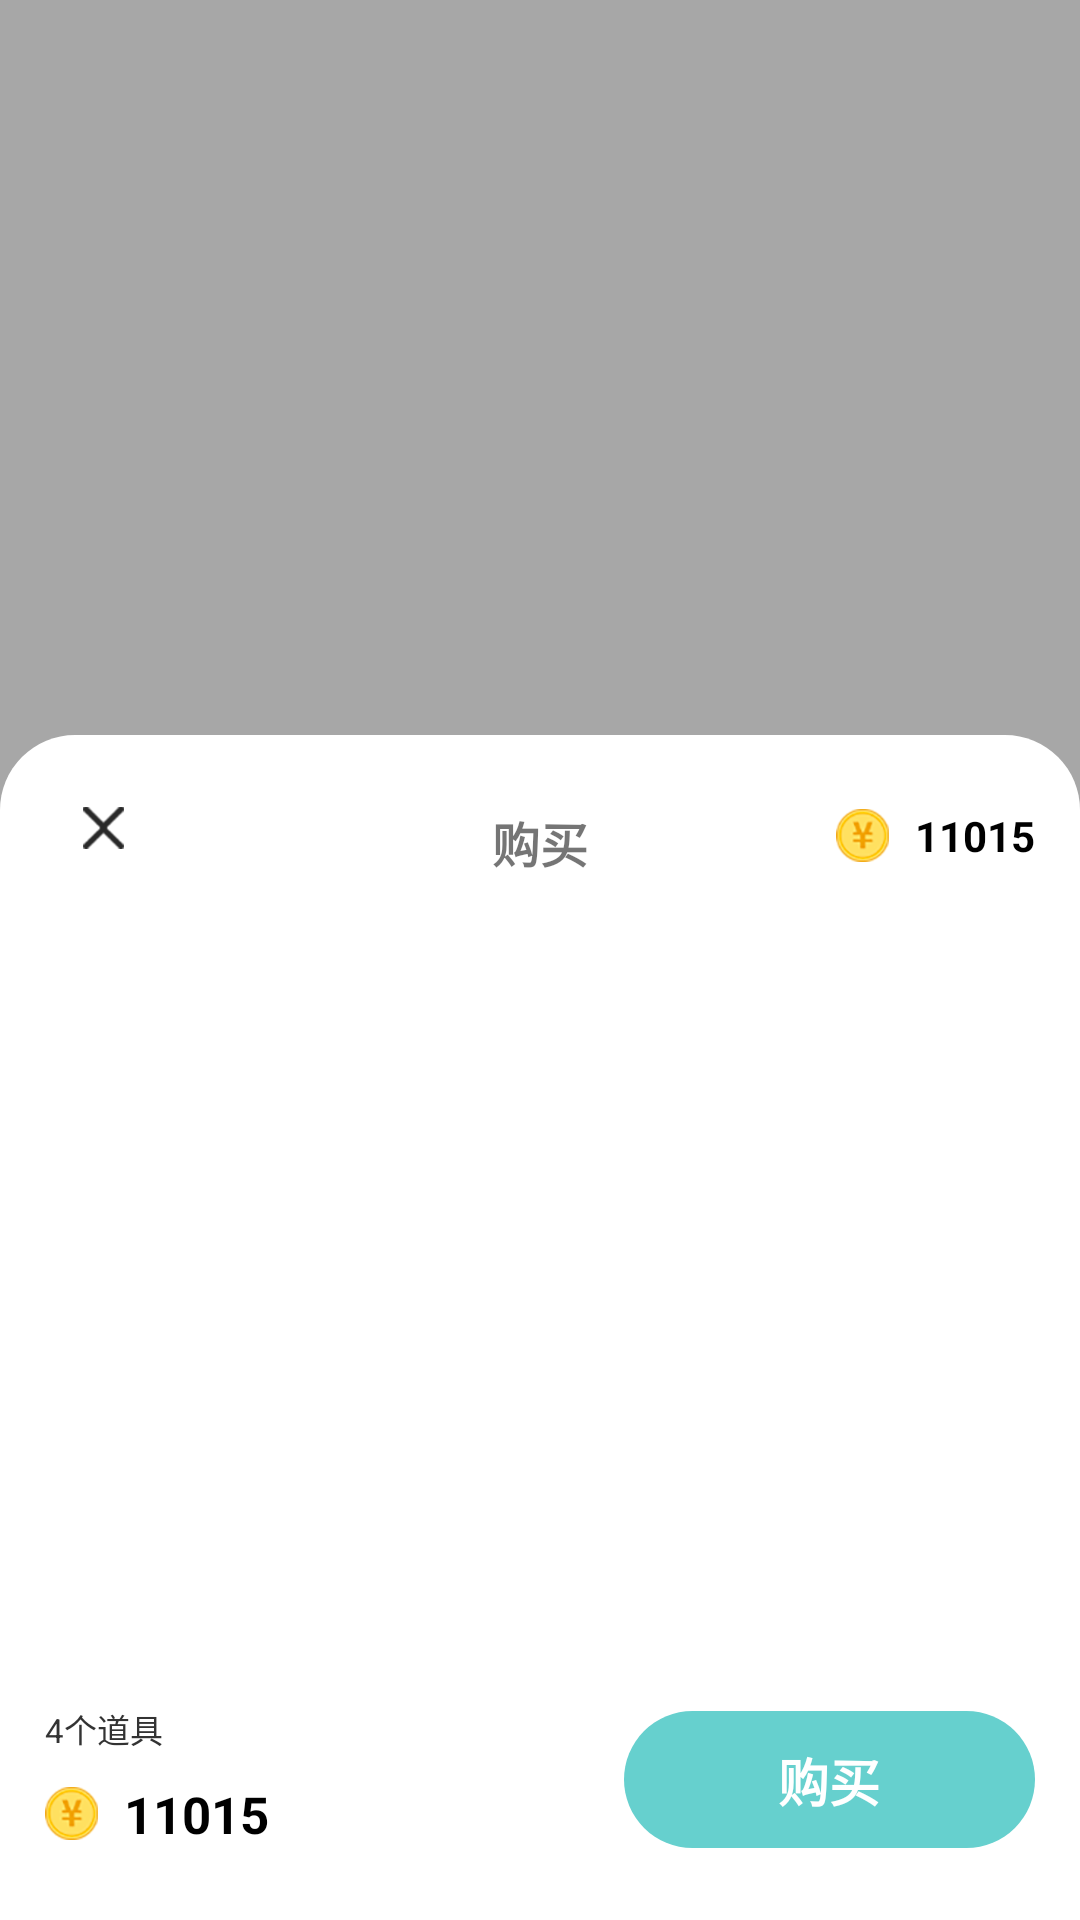

Point at icon controls on the screen. Image size 1080 x 1920, points as (x=x, y=y).
chacha: (x=103, y=828)
jinbi: (x=862, y=835), (x=71, y=1813)
